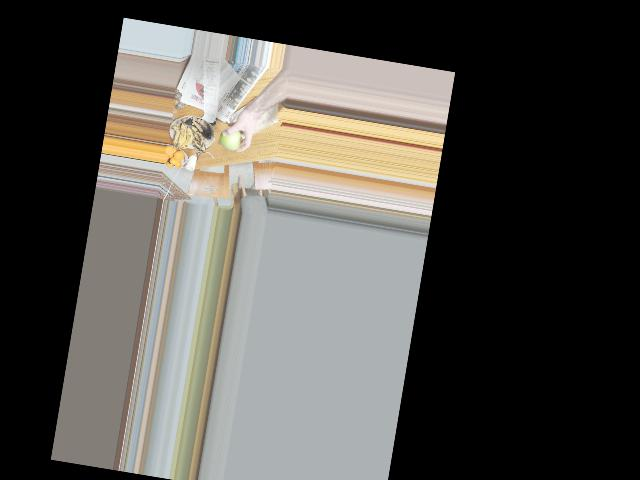apple: (218, 124, 243, 152)
